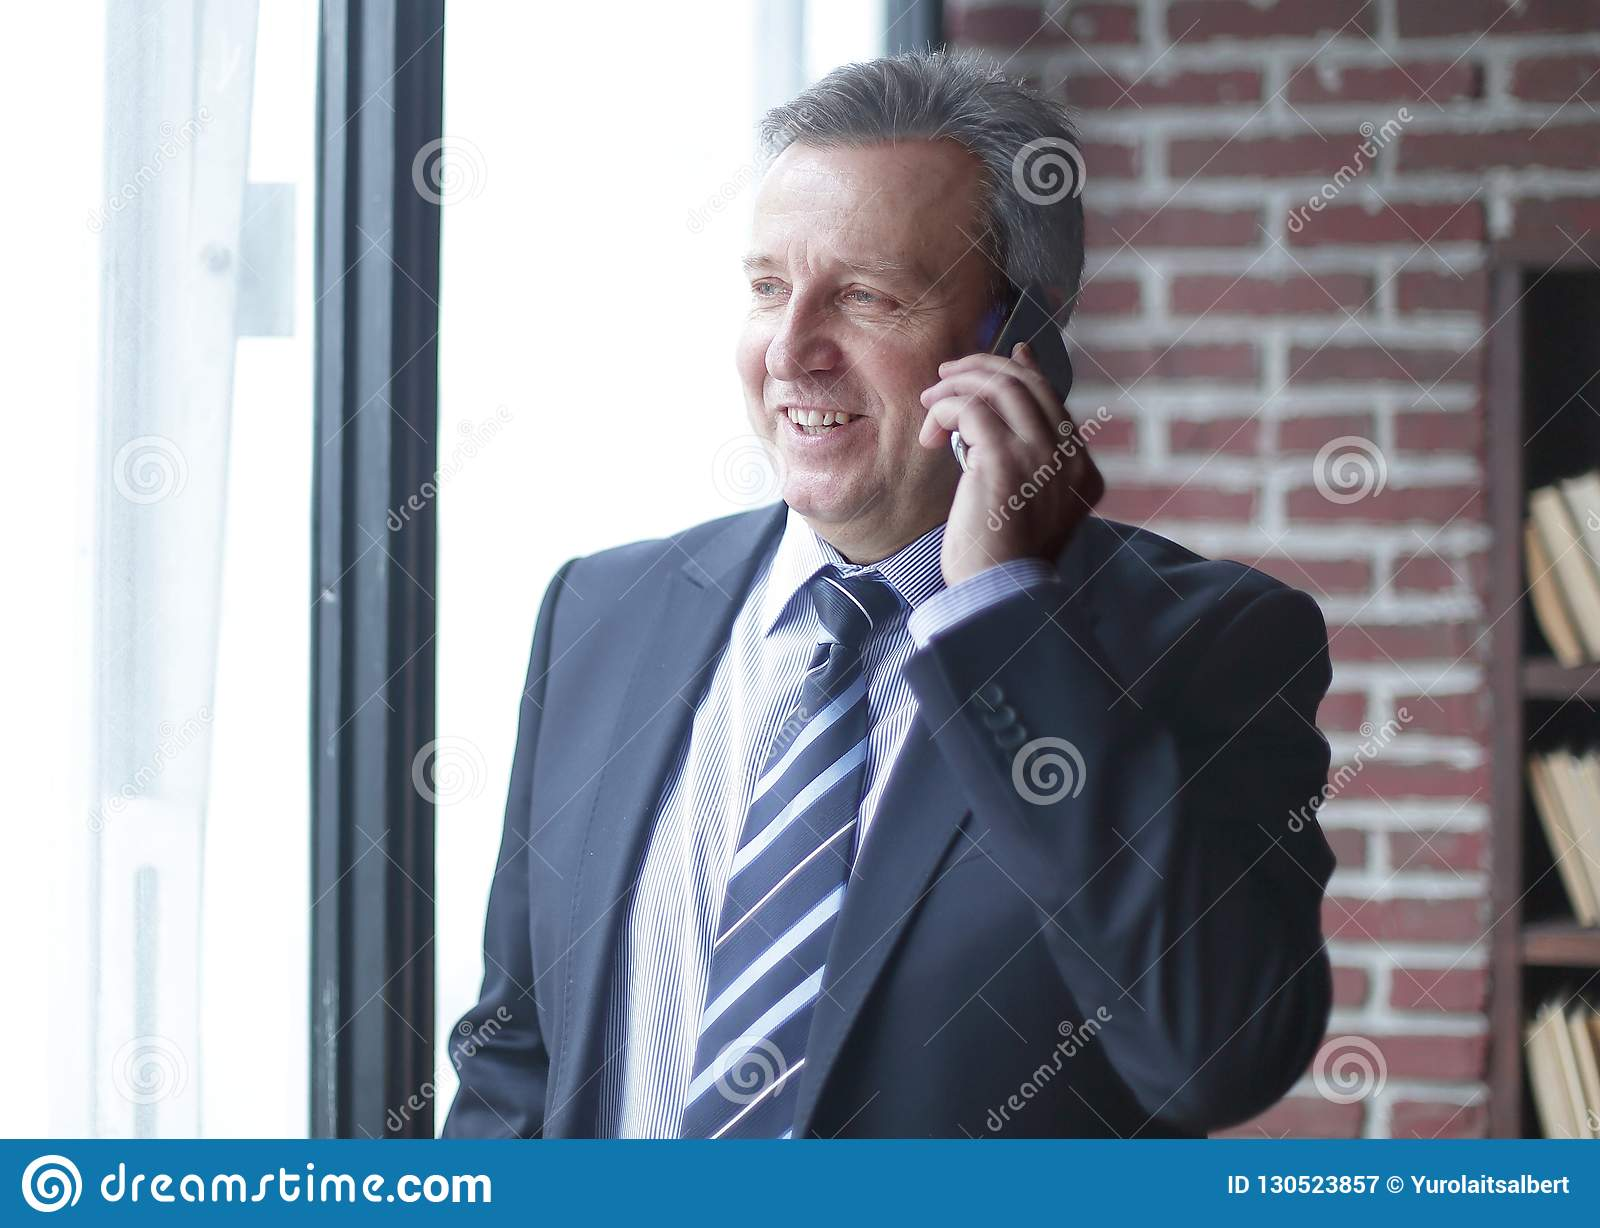phone: (942, 275, 1077, 479)
talk: (737, 231, 1111, 602)
